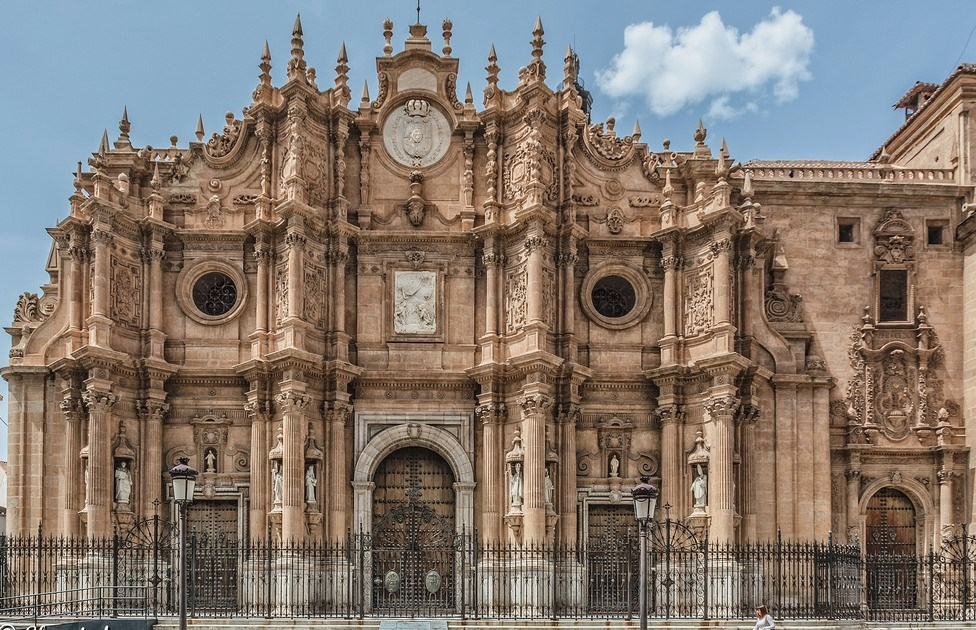arco-medio-punto: (347, 420, 479, 495), (857, 471, 936, 521)
ojo-de-buey: (577, 255, 651, 331), (177, 251, 250, 320)
vano-adintelado: (171, 479, 251, 617), (578, 487, 648, 619)
